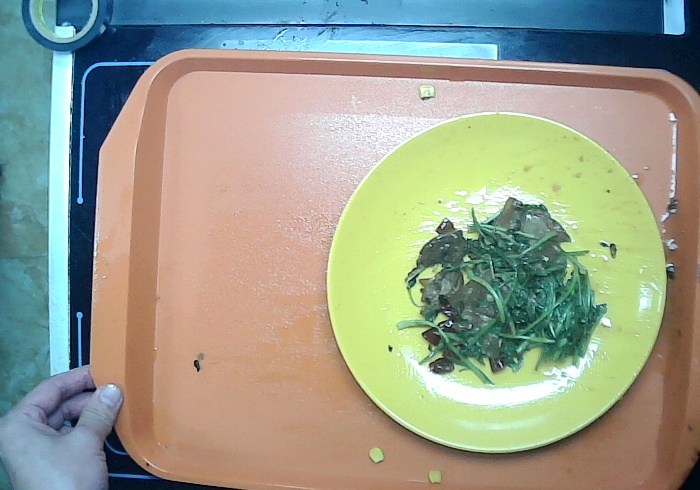HZYJPL-Huang_Se_Yuan_Pan: (323, 109, 669, 455)
